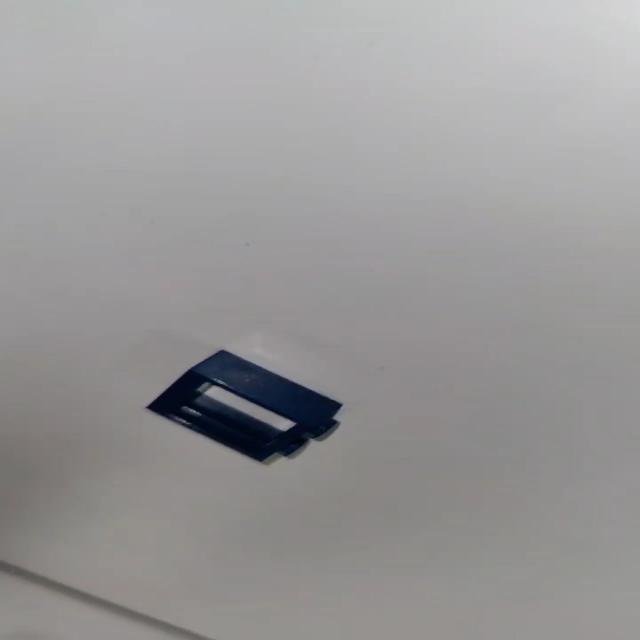W2x1x2: (144, 348, 346, 473)
